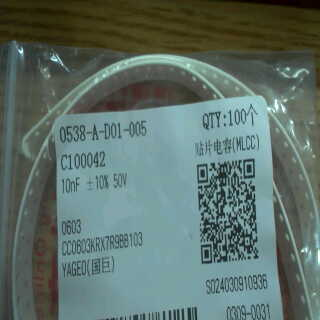10nF: (60, 175, 81, 198)
